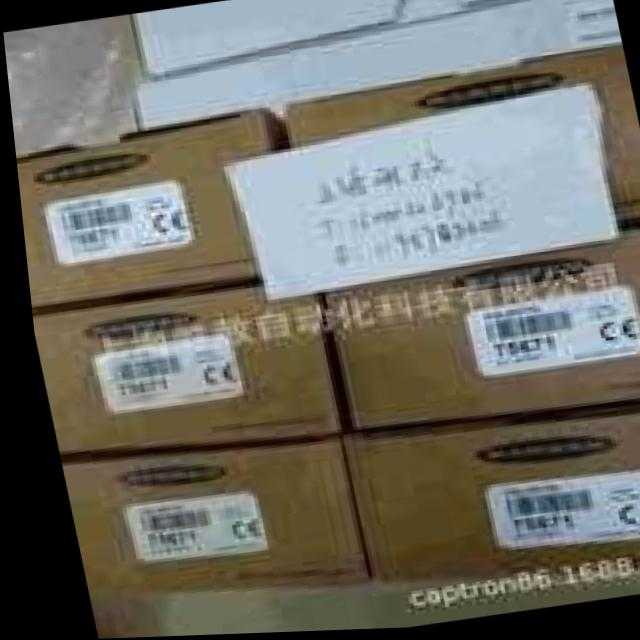box: (273, 43, 640, 221), (321, 232, 640, 429), (13, 109, 287, 307), (333, 413, 640, 587), (26, 287, 328, 454), (51, 440, 361, 590)
